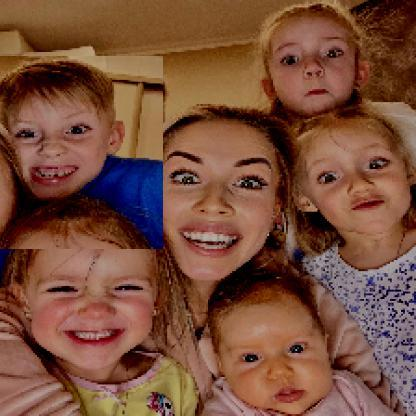child: (2, 197, 199, 416), (293, 109, 416, 416), (1, 57, 165, 251), (200, 267, 397, 416), (259, 4, 372, 110)
